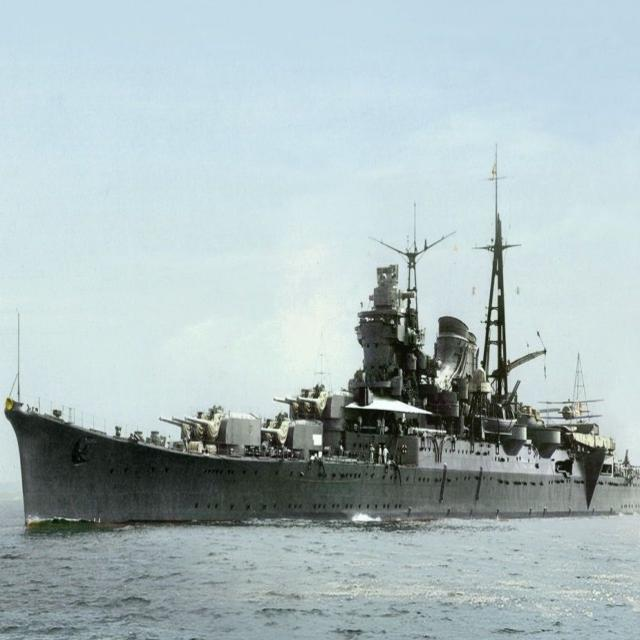navalvessels: (12, 160, 640, 546)
